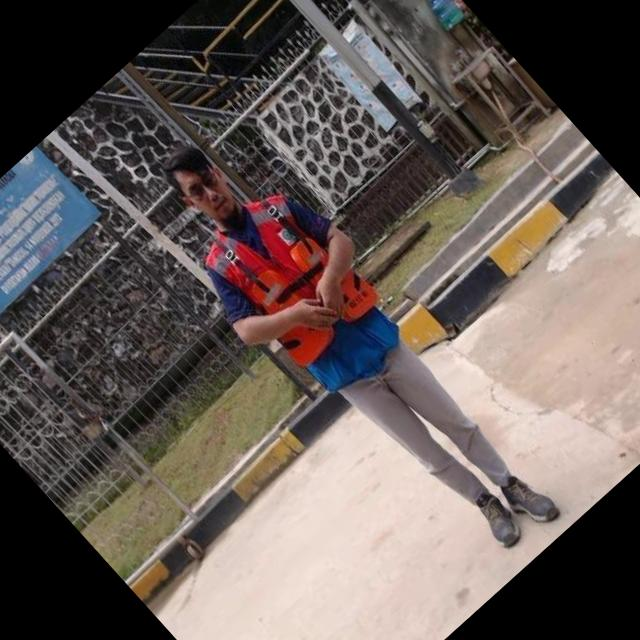safety_vest: (195, 177, 412, 402)
vehicle: (82, 63, 623, 630)
work_boots: (490, 464, 560, 536), (465, 487, 531, 555)
